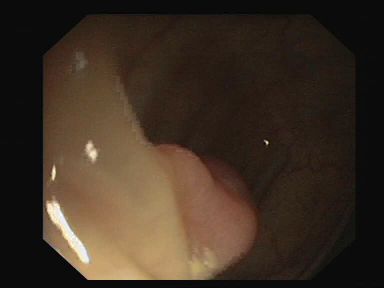polyp: (124, 111, 291, 272)
